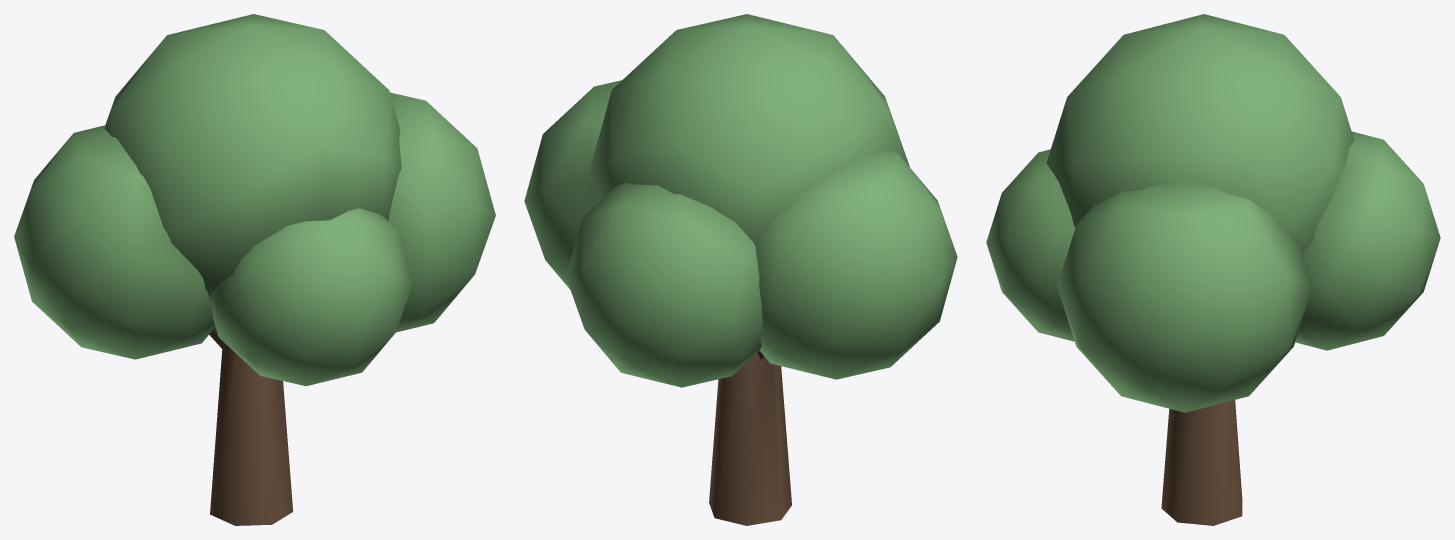
Rendered from large.glb.
The picture shows the model from 3 angles, left to right: view 1: azimuth 30°, elevation 25°; view 2: azimuth 150°, elevation 25°; view 3: azimuth 270°, elevation 25°; orthographic projection.
Visible parts, largest first — view 1: large_leafDeep, large_trunk; view 2: large_leafDeep, large_trunk; view 3: large_leafDeep, large_trunk.
Part boxes in pixels (bbox=[...]): large_leafDeep: bbox=[14, 14, 495, 386]; large_trunk: bbox=[209, 327, 293, 525]; large_leafDeep: bbox=[524, 14, 957, 387]; large_trunk: bbox=[709, 351, 791, 525]; large_leafDeep: bbox=[986, 14, 1440, 412]; large_trunk: bbox=[1161, 400, 1242, 525].
Size of the model in its own units: 1.03 by 1.12 by 0.96.
